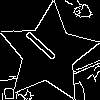I: (23, 28, 66, 69)
